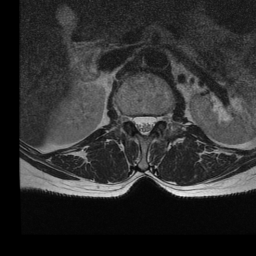CCS_normal: (141, 109, 149, 143)
LFS_stenosis: (156, 109, 164, 129)
LLS_normal: (149, 109, 156, 136)
RFS_stenosis: (125, 108, 132, 129)
RLS_normal: (132, 110, 141, 135)
